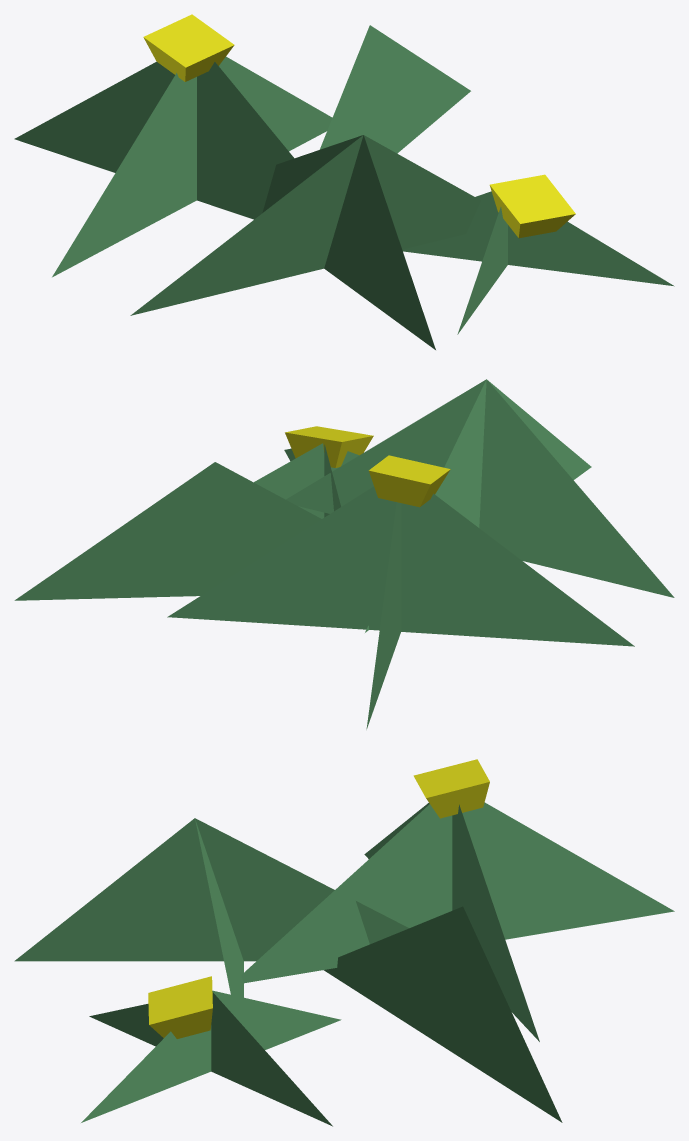
The model's file is TallGrass02.fbx.
3 renders of one model, top to bottom at view 1: azimuth 30°, elevation 25°; view 2: azimuth 150°, elevation 25°; view 3: azimuth 270°, elevation 25°, orthographic. The views are drawn at different scales.
Parts seen in each view (by area): view 1: TallGrass02WithBlossoms; view 2: TallGrass02WithBlossoms; view 3: TallGrass02WithBlossoms.
Part boxes in pixels (<box>): TallGrass02WithBlossoms: <box>14,14,674,349</box>; TallGrass02WithBlossoms: <box>14,379,674,729</box>; TallGrass02WithBlossoms: <box>14,759,674,1126</box>.
Bounding box in the file's own units: 0.6648 × 0.2398 × 0.7188.
